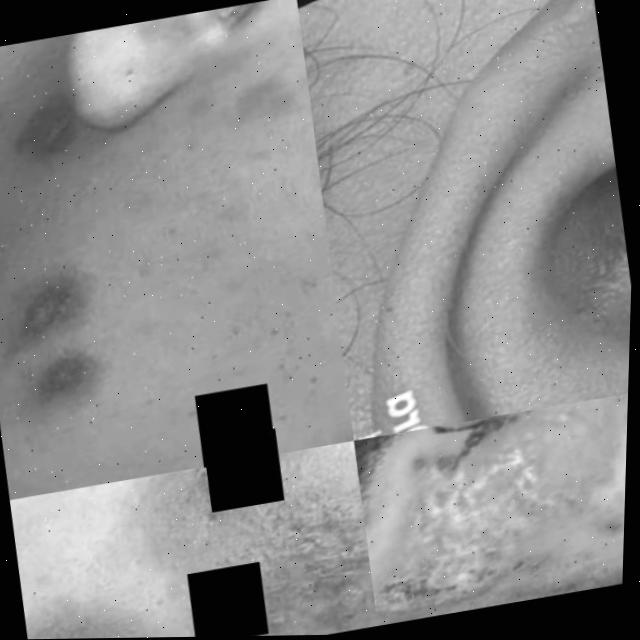lupus-detected: (348, 391, 628, 627), (96, 440, 383, 638), (0, 157, 156, 425), (10, 499, 232, 640), (224, 236, 359, 458), (0, 46, 93, 184)
